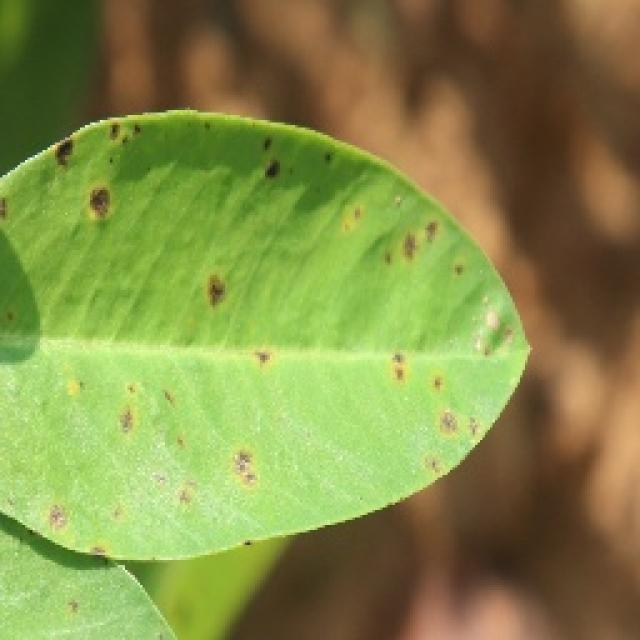Early_leaf_spot: (369, 337, 499, 486), (25, 105, 147, 226), (328, 177, 458, 279), (202, 120, 336, 176), (93, 371, 198, 438), (112, 467, 208, 530), (37, 479, 104, 569), (197, 256, 254, 331), (220, 442, 276, 505), (226, 323, 276, 378)
